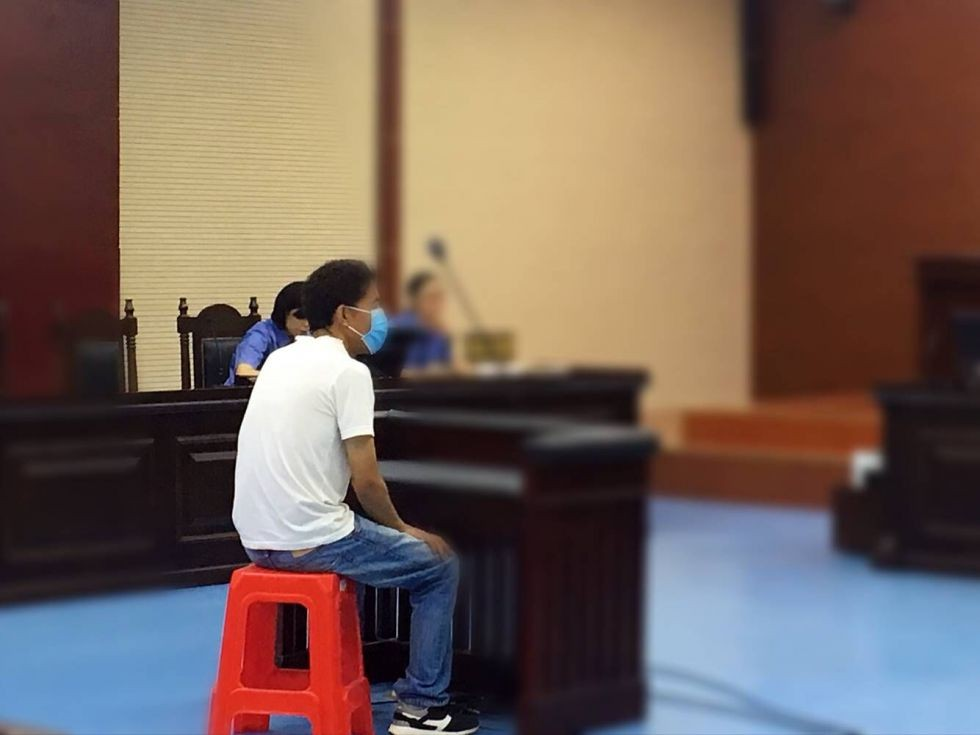mask: (347, 292, 407, 349)
